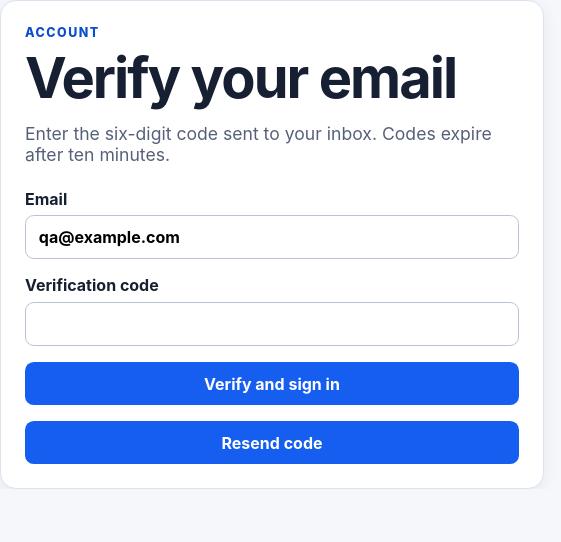
Test case: VerifyEmailPage › uses the server retry window to disable repeated resend requests
The image size is (561, 542).
Click the button "Resend code": (272, 443) x1=25 y1=421 x2=519 y2=464
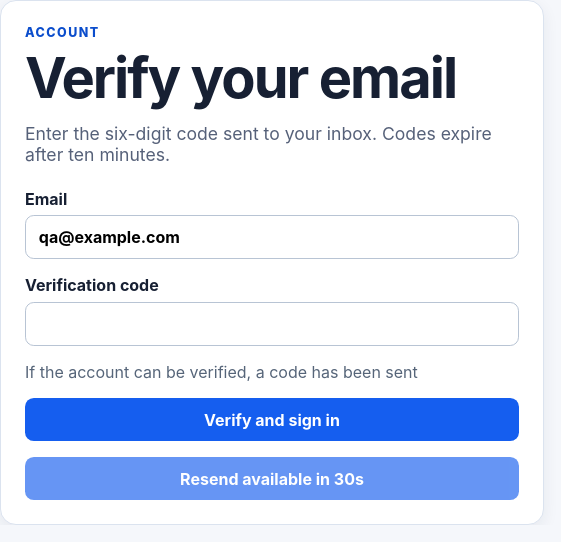
Check: the button "Resend available in 30s" is disabled, box x1=25 y1=457 x2=519 y2=500
Check: the message shows "If the account can be verified", box x1=25 y1=362 x2=418 y2=382
